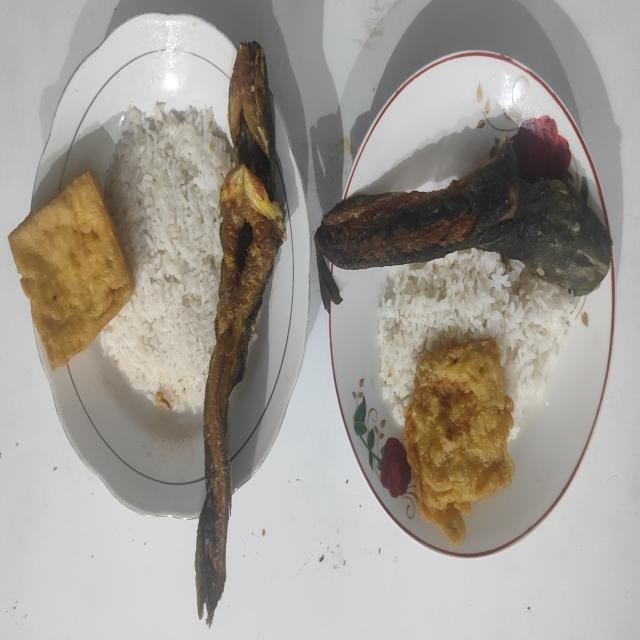nasi_putih: (101, 101, 232, 412), (378, 249, 580, 441)
tahu_goreng: (9, 172, 134, 370)
